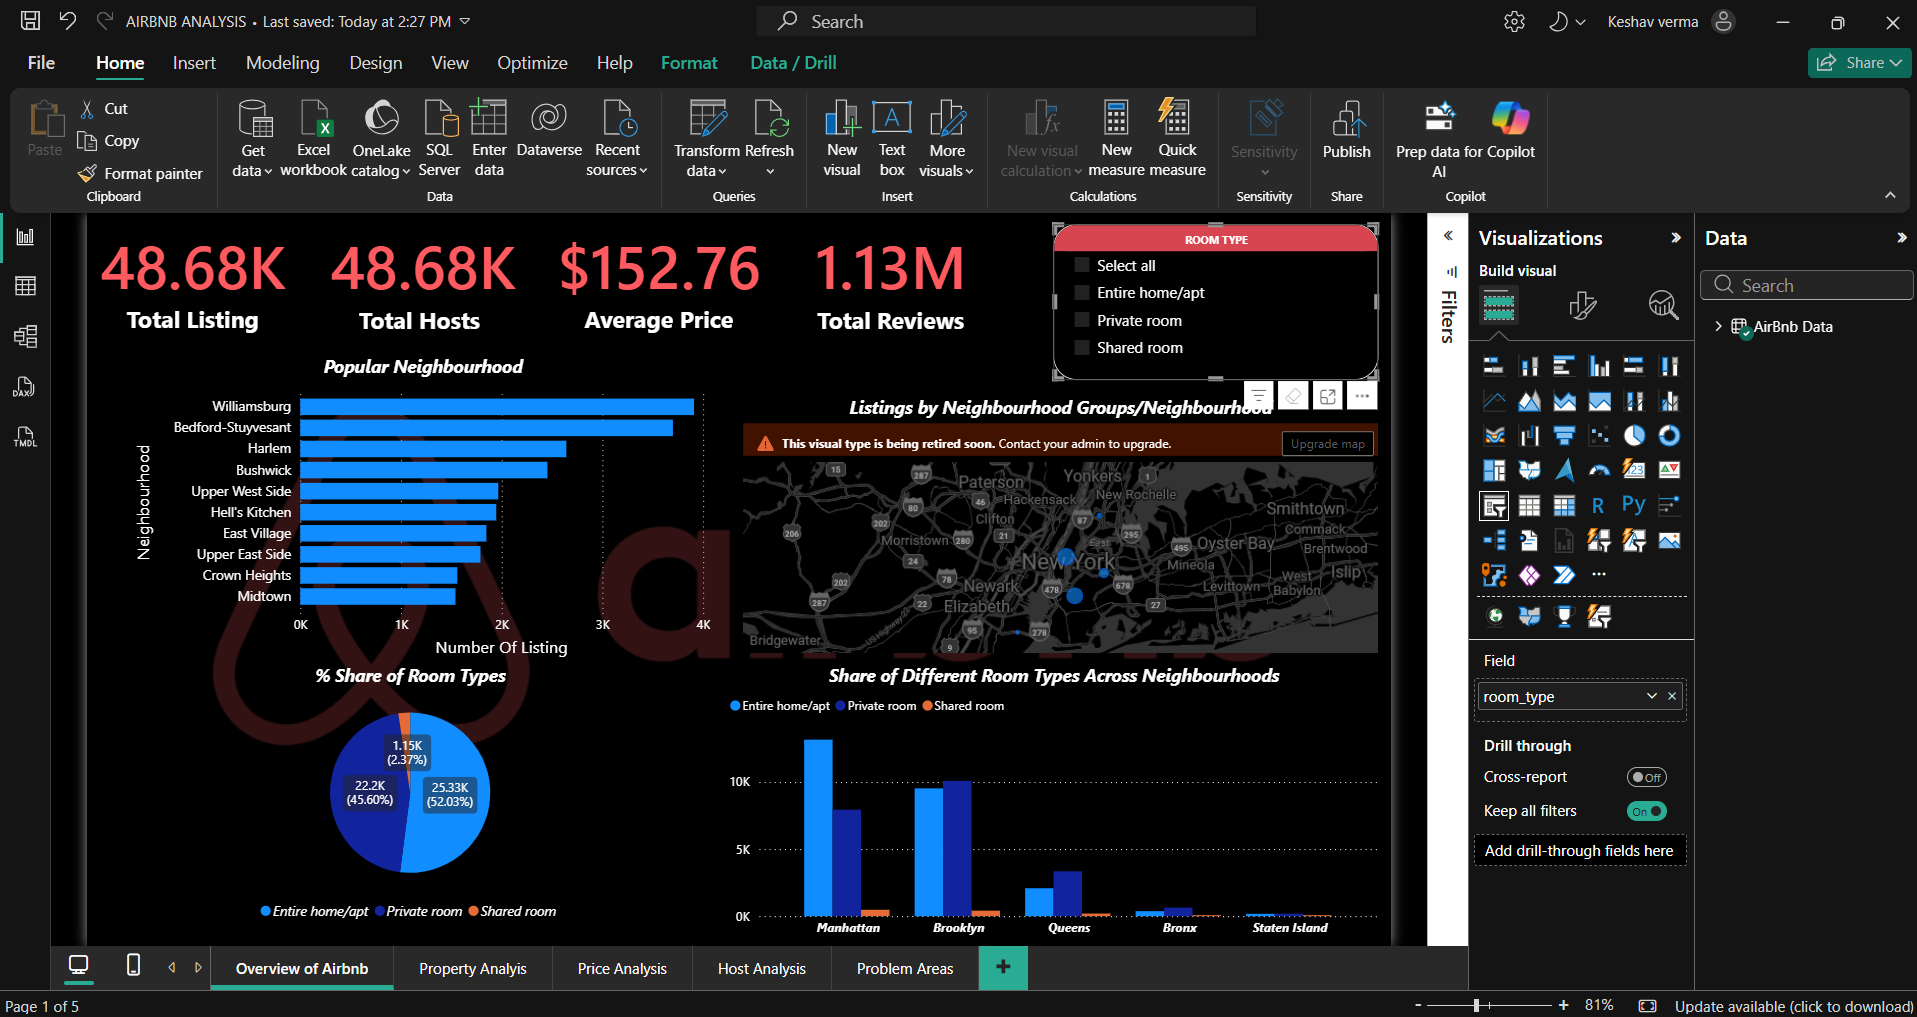

This screenshot's page, from the dashboard's own definition file:
{"tool":"powerbi","page":{"name":"Overview of Airbnb","canvas":[1280,720],"ordinal":0},"visuals":[{"type":"card","fields":{"Values":["Count(AirBnb Data.id)"]},"box":[0,0,208.1,129.7],"z":0},{"type":"card","fields":{"Values":["CountNonNull(AirBnb Data.host_id)"]},"box":[225.8,0,207.9,130.1],"z":1000},{"type":"card","fields":{"Values":["Avg(AirBnb Data.price)"]},"box":[434.1,0,254.3,129.7],"z":2000},{"type":"card","fields":{"Values":["Sum(AirBnb Data.number_of_reviews)"]},"box":[657,0,265.3,130.1],"z":3000},{"type":"barChart","title":"Popular Neighbourhood","fields":{"Category":["AirBnb Data.neighbourhood"],"Y":["CountNonNull(AirBnb Data.id)"]},"box":[43.4,139,574,302.3],"z":4000},{"type":"map","title":"Listings by Neighbourhood Groups/Neighbourhood","fields":{"Category":["AirBnb Data.neighbourhood_group","AirBnb Data.neighbourhood"],"Size":["CountNonNull(AirBnb Data.host_id)"],"X":["Avg(AirBnb Data.longitude)"],"Y":["Avg(AirBnb Data.latitude)"]},"box":[639.6,178.5,633.2,251.7],"z":5000},{"type":"slicer","title":"ROOM TYPE","fields":{"Values":["AirBnb Data.room_type"]},"box":[949.1,11.5,318.9,153.1],"z":6000},{"type":"pieChart","title":"% Share of Room Types","fields":{"Category":["AirBnb Data.room_type"],"Y":["CountNonNull(AirBnb Data.id)"]},"box":[24.4,441.8,585.7,262],"z":7000},{"type":"clusteredColumnChart","title":"Share of Different Room Types Across Neighbourhoods","fields":{"Category":["AirBnb Data.neighbourhood_group"],"Series":["AirBnb Data.room_type"],"Y":["CountNonNull(AirBnb Data.id)"]},"box":[625.5,441.8,647.3,278.7],"z":8000}]}

Visuals, with their boxes on the page's 1280x720 design canvas (x1, y1, x2, y2). These are canvas units, not pixel positions in the 1917x1017 screenshot, which may show the page scaled, cropped or inside an application window:
card - Count(AirBnb Data.id): l=0, t=0, r=208, b=130
card - CountNonNull(AirBnb Data.host_id): l=226, t=0, r=434, b=130
card - Avg(AirBnb Data.price): l=434, t=0, r=688, b=130
card - Sum(AirBnb Data.number_of_reviews): l=657, t=0, r=922, b=130
"Popular Neighbourhood" barChart: l=43, t=139, r=617, b=441
"Listings by Neighbourhood Groups/Neighbourhood" map: l=640, t=178, r=1273, b=430
"ROOM TYPE" slicer: l=949, t=12, r=1268, b=165
"% Share of Room Types" pieChart: l=24, t=442, r=610, b=704
"Share of Different Room Types Across Neighbourhoods" clusteredColumnChart: l=626, t=442, r=1273, b=720
